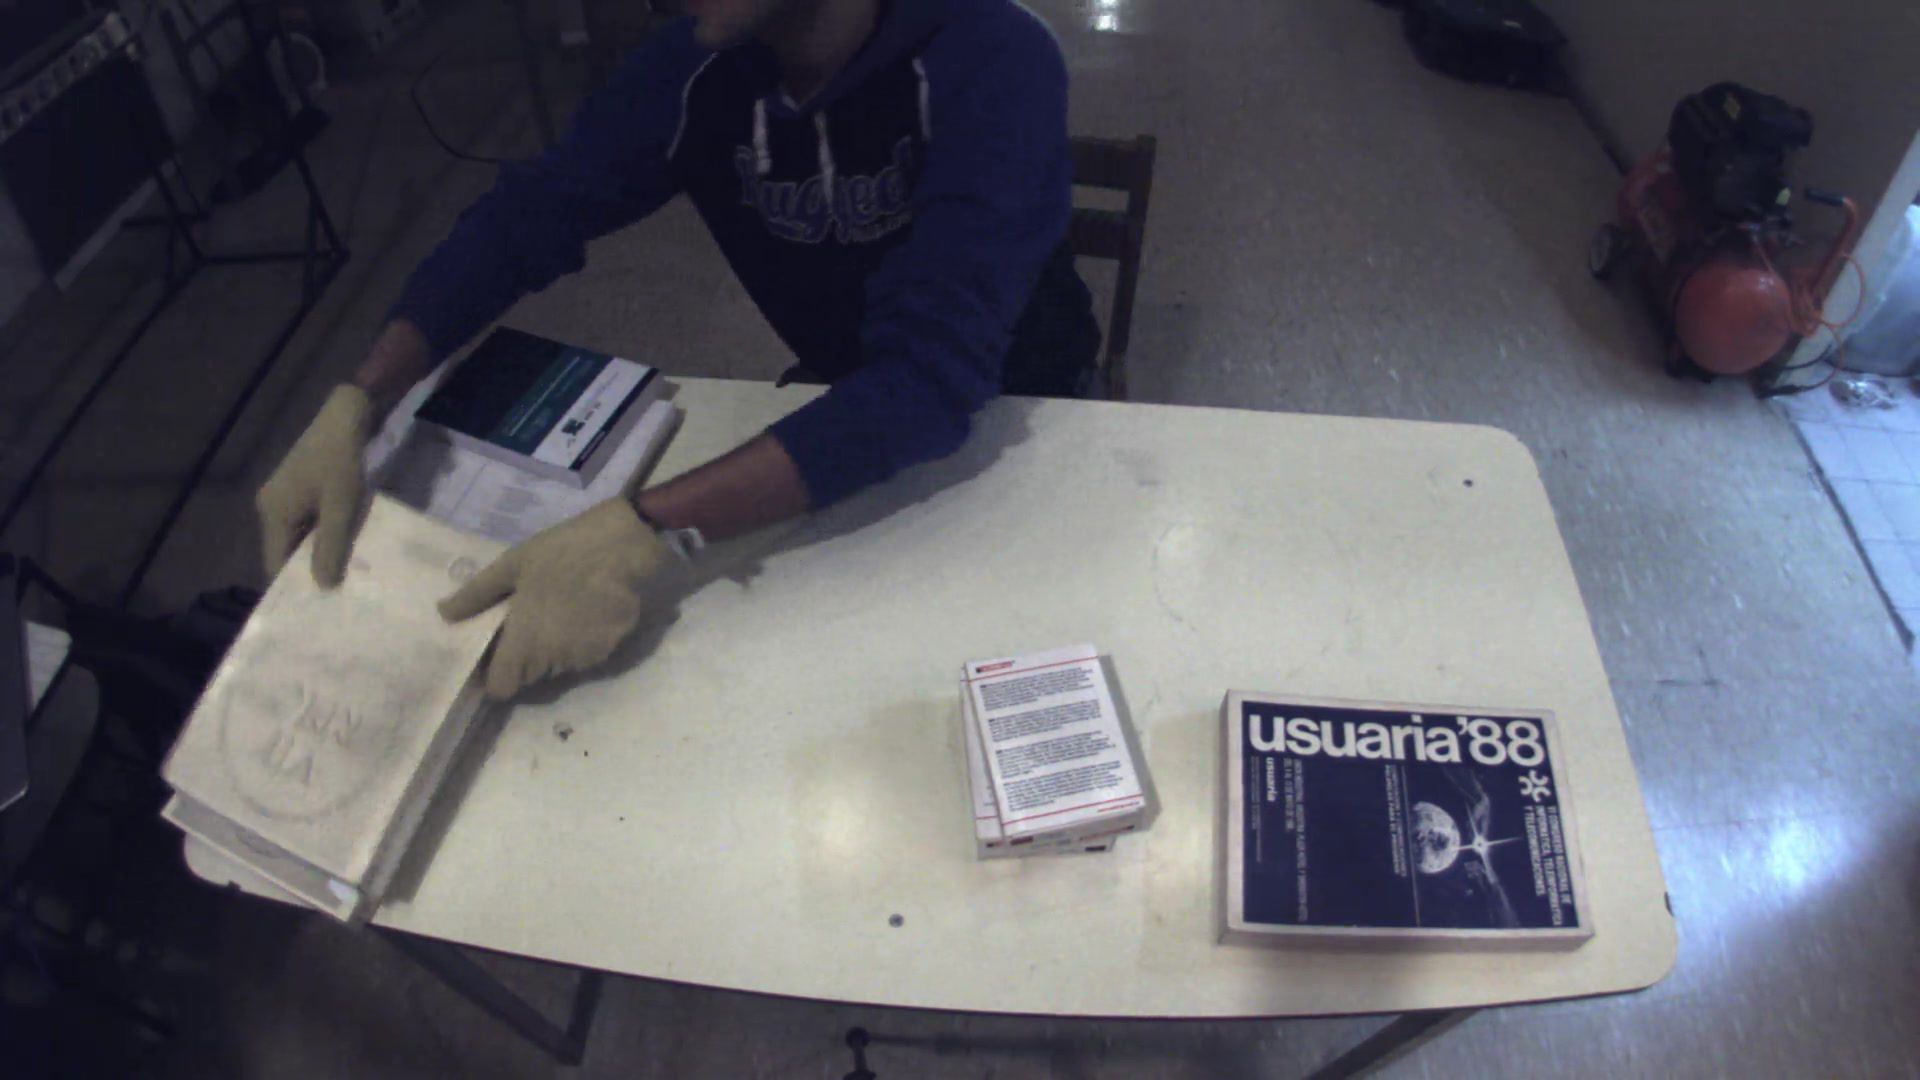hand: (421, 491, 665, 698), (247, 382, 382, 605)
